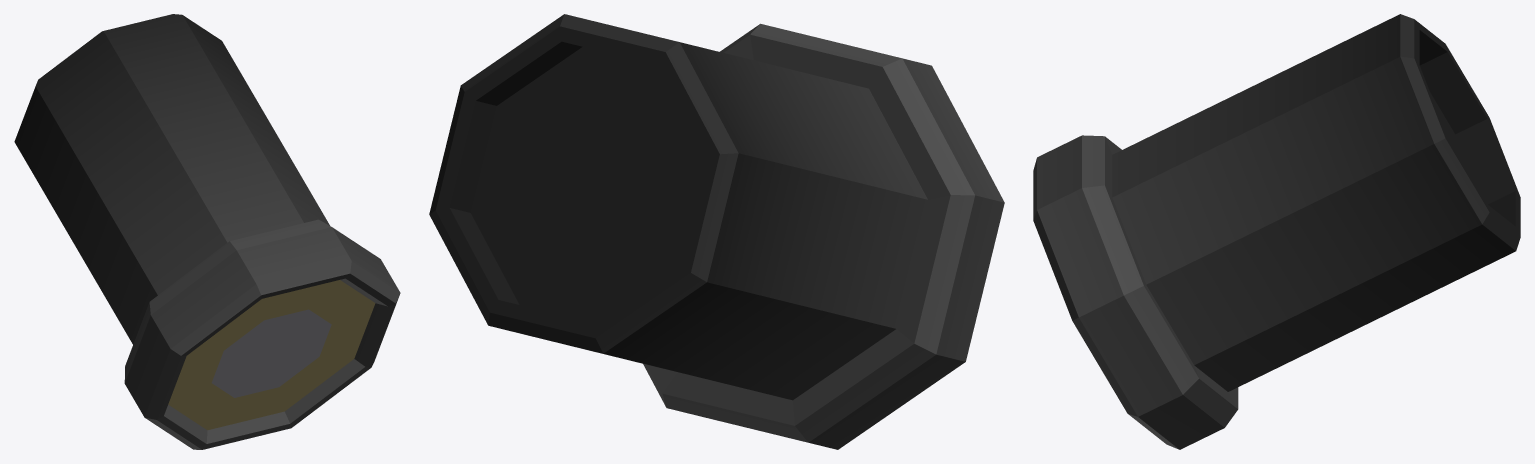
File: light.fbx
3 views of the same model, side by side, from view 1: azimuth 30°, elevation 25°; view 2: azimuth 150°, elevation 25°; view 3: azimuth 270°, elevation 25° (orthographic). The views are drawn at different scales.
Parts seen in each view (by area): view 1: Cylinder.009; view 2: Cylinder.009; view 3: Cylinder.009.
Boxes of the visible parts, <box> form: Cylinder.009: <box>14,14,400,449</box>; Cylinder.009: <box>429,14,1004,449</box>; Cylinder.009: <box>1033,14,1520,449</box>.
Size of the model in its own units: 189 by 270 by 307.
